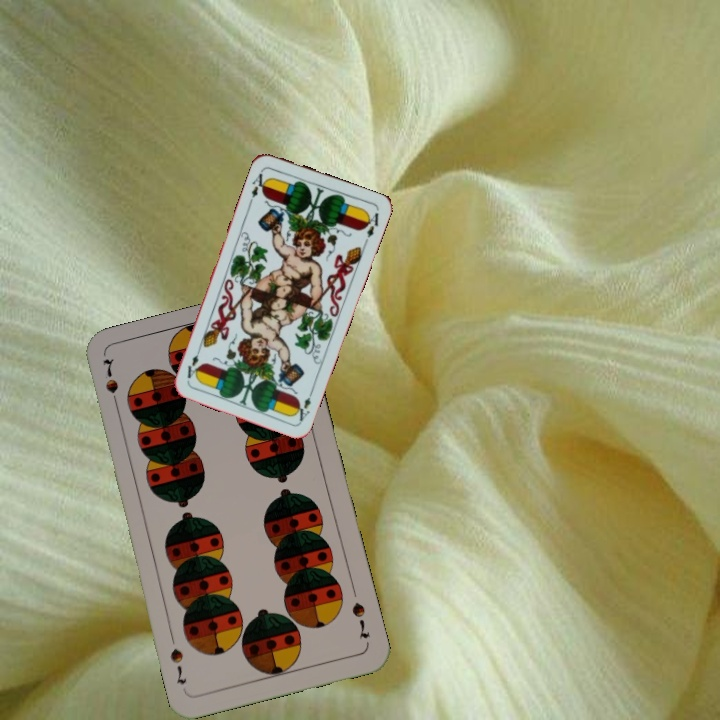EA: (245, 165, 271, 205), (291, 385, 316, 424)
S7: (99, 354, 122, 412), (348, 598, 373, 642)
